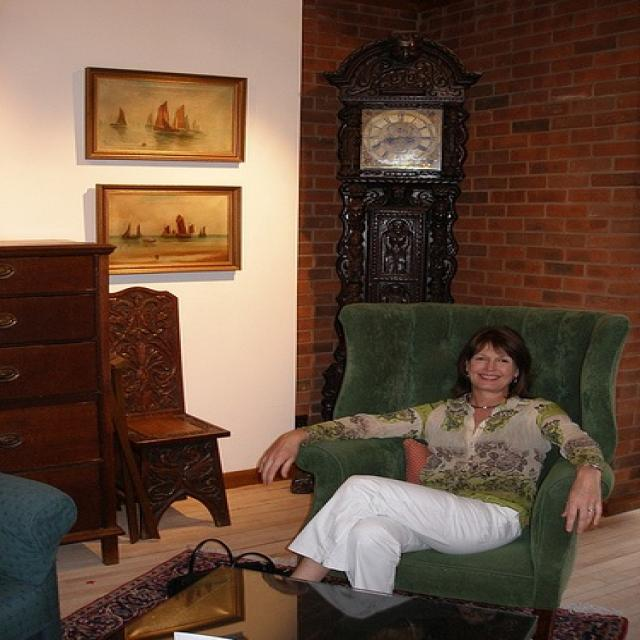chair: (290, 298, 635, 616), (102, 283, 234, 544), (0, 467, 84, 639)
